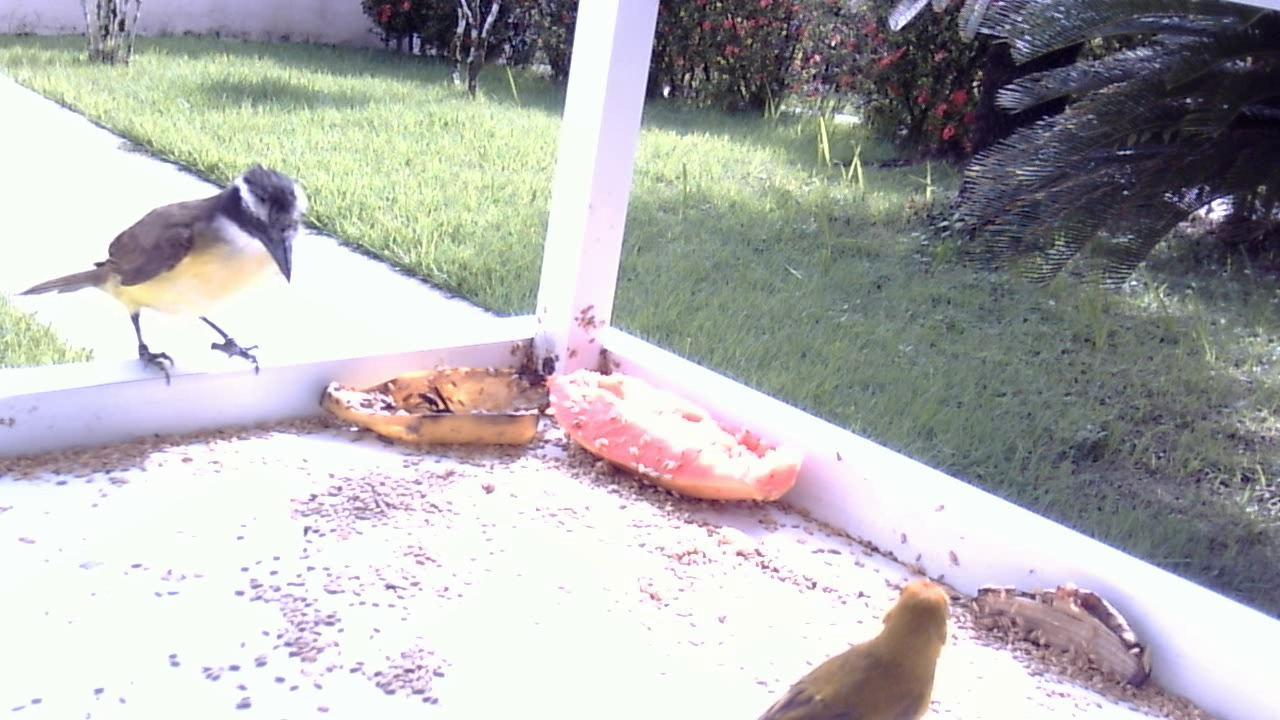bem_te_vi: (12, 154, 310, 391)
canario_do_amazonas: (742, 571, 960, 720)
